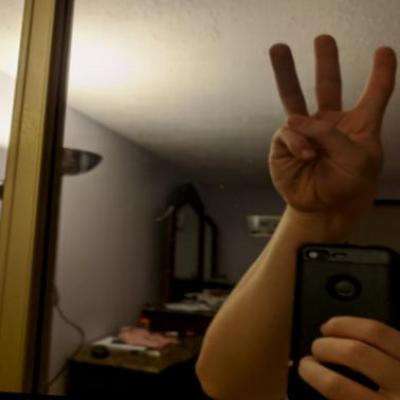hand: (256, 26, 399, 224)
